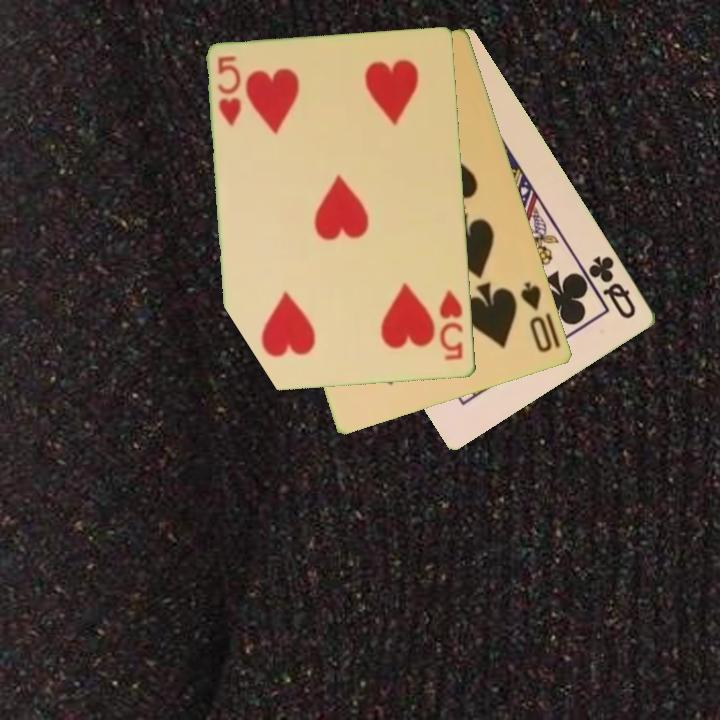10s: (517, 278, 556, 356)
5h: (436, 286, 467, 364), (214, 53, 245, 130)
Qc: (585, 252, 640, 322)
